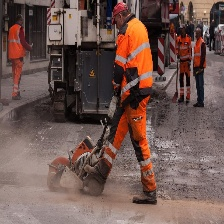no-helmet: (108, 3, 129, 24), (177, 23, 187, 32), (195, 27, 202, 37)
person: (101, 4, 162, 198), (7, 16, 30, 103), (175, 21, 194, 105), (193, 23, 208, 107)
vest: (109, 30, 157, 107), (9, 26, 28, 63), (175, 37, 194, 69), (194, 38, 208, 75)
